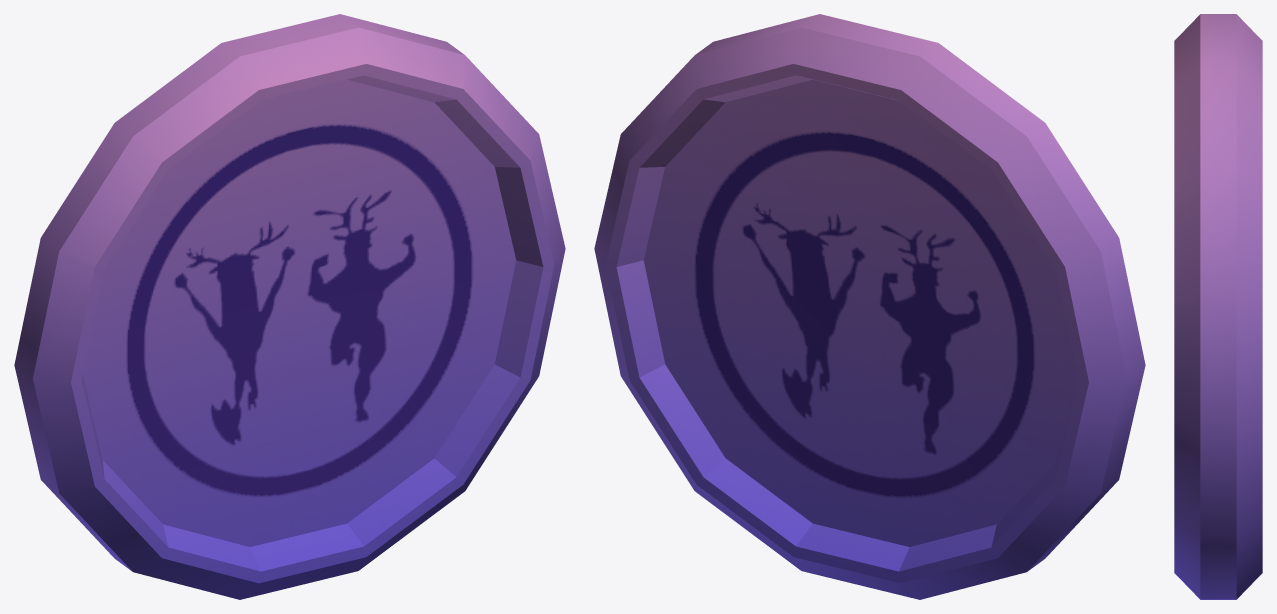
Rendered from Coin.fbx.
The picture shows the model from 3 angles, left to right: view 1: azimuth 30°, elevation 25°; view 2: azimuth 150°, elevation 25°; view 3: azimuth 270°, elevation 25°; orthographic projection. The views are drawn at different scales.
Parts seen in each view (by area): view 1: Coin; view 2: Coin; view 3: Coin.
Part boxes in pixels (x1,y1,x2,y2): Coin: (14,14,565,599); Coin: (594,14,1145,599); Coin: (1174,14,1262,599).
Bounding box in the file's own units: 0.4382 × 0.4272 × 0.0647.
